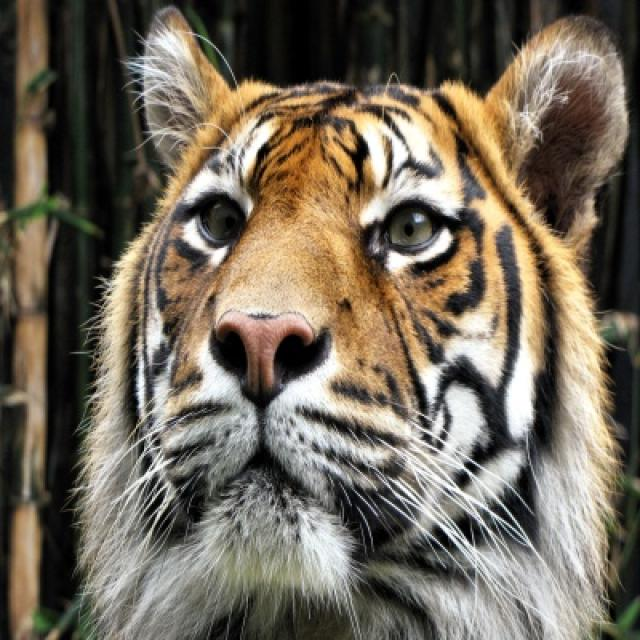Tiger: (124, 80, 568, 585)
